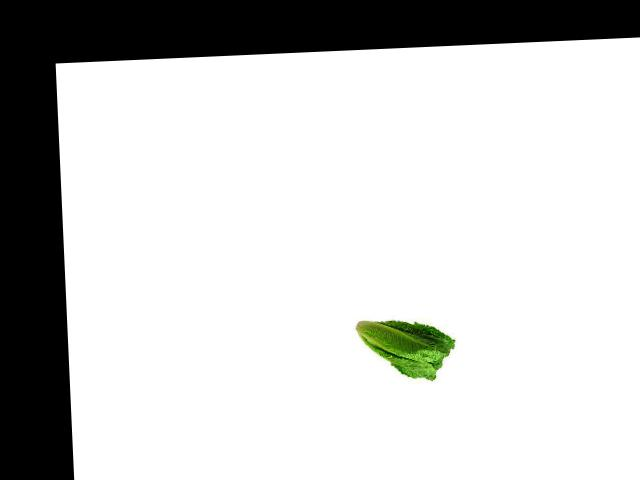lettuce: (346, 315, 457, 384)
